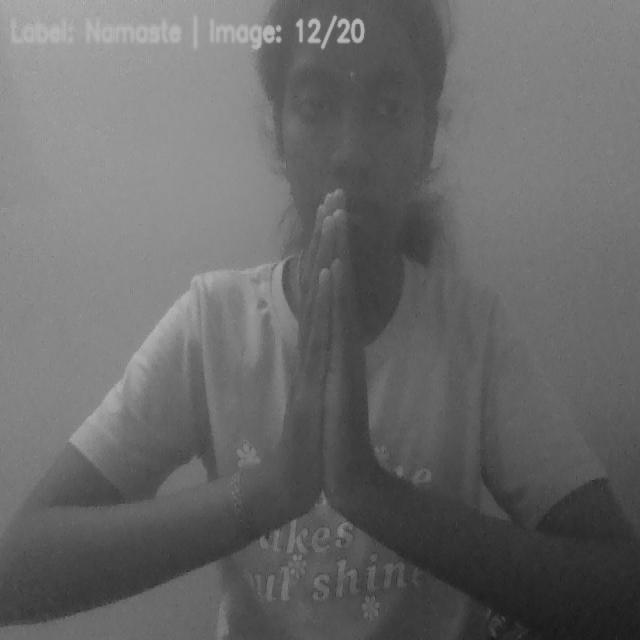Namaste: (274, 182, 382, 509)
